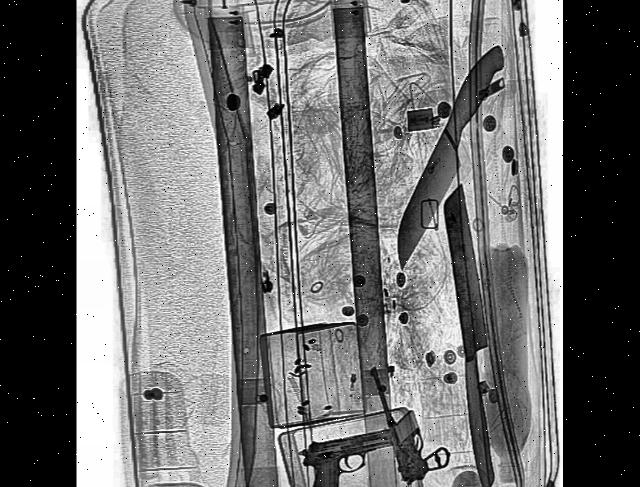Gun: (365, 340, 454, 487), (298, 426, 399, 487)
Knife: (377, 30, 514, 277), (437, 178, 505, 487)
